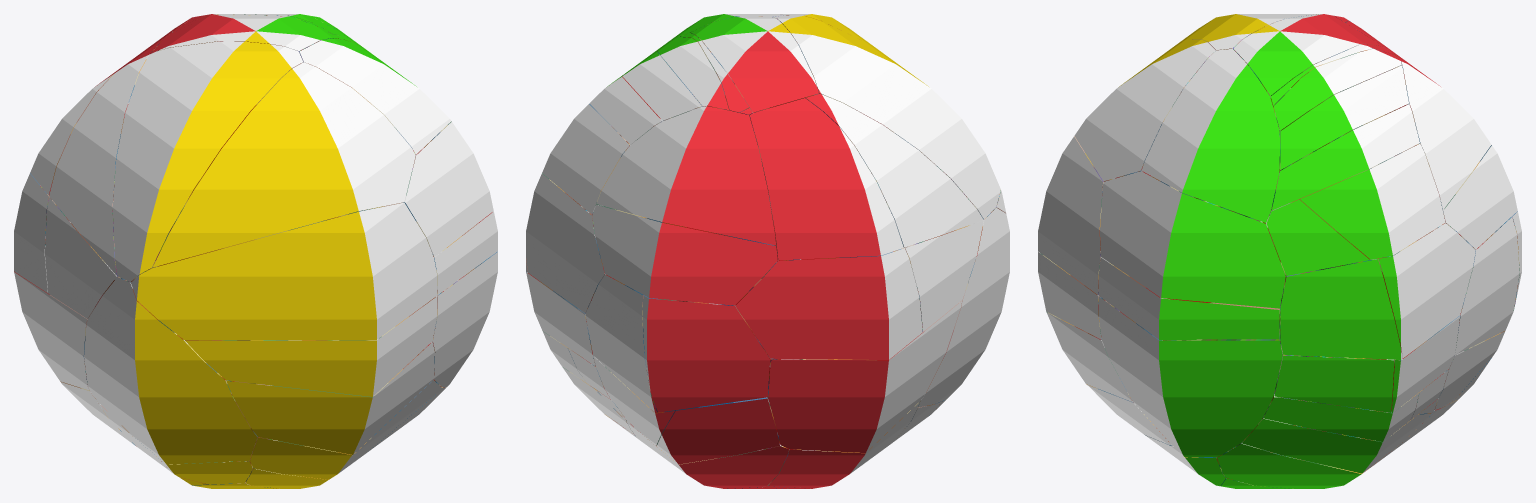
Rendered from Ball.fbx.
3 views of the same model, side by side, from view 1: azimuth 30°, elevation 25°; view 2: azimuth 150°, elevation 25°; view 3: azimuth 270°, elevation 25° (orthographic).
Parts seen in each view (by area): view 1: Beach_Ball_cell.015, Beach_Ball_cell.001, Beach_Ball_cell.009, Beach_Ball_cell.029, Beach_Ball_cell.026, Beach_Ball_cell.004, Beach_Ball_cell.011_cell, Beach_Ball_cell.027, Beach_Ball_cell.012, Beach_Ball_cell.002, Beach_Ball_cell.030_cell, Beach_Ball_cell.033_cell (+9 smaller); view 2: Beach_Ball_cell.034_cell, Beach_Ball_cell.030_cell.001, Beach_Ball_cell.011_cell.001, Beach_Ball_cell.033_cell, Beach_Ball_cell.009, Beach_Ball_cell.034_cell.001, Beach_Ball_cell.016_cell, Beach_Ball_cell.011_cell, Beach_Ball_cell.017, Beach_Ball_cell.024_cell, Beach_Ball_cell.029, Beach_Ball_cell.006_cell (+15 smaller); view 3: Beach_Ball_cell.027, Beach_Ball_cell.002, Beach_Ball_cell.012, Beach_Ball_cell.024_cell.001_cell.001, Beach_Ball_cell.021_cell, Beach_Ball_cell.001, Beach_Ball_cell.024_cell, Beach_Ball_cell.003, Beach_Ball_cell.015, Beach_Ball_cell.034_cell, Beach_Ball_cell.028, Beach_Ball_cell.017 (+18 smaller).
Boxes of the visible parts, bbox=[...] form: Beach_Ball_cell.015: bbox=[131, 202, 437, 339]; Beach_Ball_cell.001: bbox=[152, 62, 415, 267]; Beach_Ball_cell.009: bbox=[112, 41, 303, 282]; Beach_Ball_cell.029: bbox=[84, 277, 257, 464]; Beach_Ball_cell.026: bbox=[184, 296, 437, 396]; Beach_Ball_cell.004: bbox=[226, 341, 434, 454]; Beach_Ball_cell.011_cell: bbox=[49, 50, 153, 275]; Beach_Ball_cell.027: bbox=[401, 121, 493, 257]; Beach_Ball_cell.012: bbox=[299, 38, 451, 154]; Beach_Ball_cell.002: bbox=[432, 251, 497, 387]; Beach_Ball_cell.030_cell: bbox=[45, 197, 117, 318]; Beach_Ball_cell.033_cell: bbox=[14, 271, 89, 390]; Beach_Ball_cell.034_cell: bbox=[596, 106, 776, 245]; Beach_Ball_cell.030_cell.001: bbox=[735, 248, 922, 359]; Beach_Ball_cell.011_cell.001: bbox=[749, 98, 903, 260]; Beach_Ball_cell.033_cell: bbox=[767, 301, 961, 452]; Beach_Ball_cell.009: bbox=[772, 15, 1000, 219]; Beach_Ball_cell.034_cell.001: bbox=[592, 204, 777, 305]; Beach_Ball_cell.016_cell: bbox=[642, 295, 770, 412]; Beach_Ball_cell.011_cell: bbox=[805, 94, 983, 247]; Beach_Ball_cell.017: bbox=[690, 16, 818, 112]; Beach_Ball_cell.024_cell: bbox=[526, 173, 604, 313]; Beach_Ball_cell.029: bbox=[918, 207, 1009, 407]; Beach_Ball_cell.006_cell: bbox=[657, 397, 779, 464]; Beach_Ball_cell.027: bbox=[1100, 171, 1285, 308]; Beach_Ball_cell.002: bbox=[1098, 296, 1282, 457]; Beach_Ball_cell.012: bbox=[1141, 48, 1279, 222]; Beach_Ball_cell.024_cell.001_cell.001: bbox=[1280, 258, 1402, 359]; Beach_Ball_cell.021_cell: bbox=[1300, 143, 1445, 259]; Beach_Ball_cell.001: bbox=[1074, 39, 1215, 181]; Beach_Ball_cell.024_cell: bbox=[1378, 223, 1475, 357]; Beach_Ball_cell.003: bbox=[1098, 257, 1279, 339]; Beach_Ball_cell.015: bbox=[1038, 136, 1103, 295]; Beach_Ball_cell.034_cell: bbox=[1389, 50, 1491, 209]; Beach_Ball_cell.028: bbox=[1271, 104, 1419, 210]; Beach_Ball_cell.017: bbox=[1233, 14, 1383, 98].
Bounding box in the file's own units: 172 × 200 × 199.
